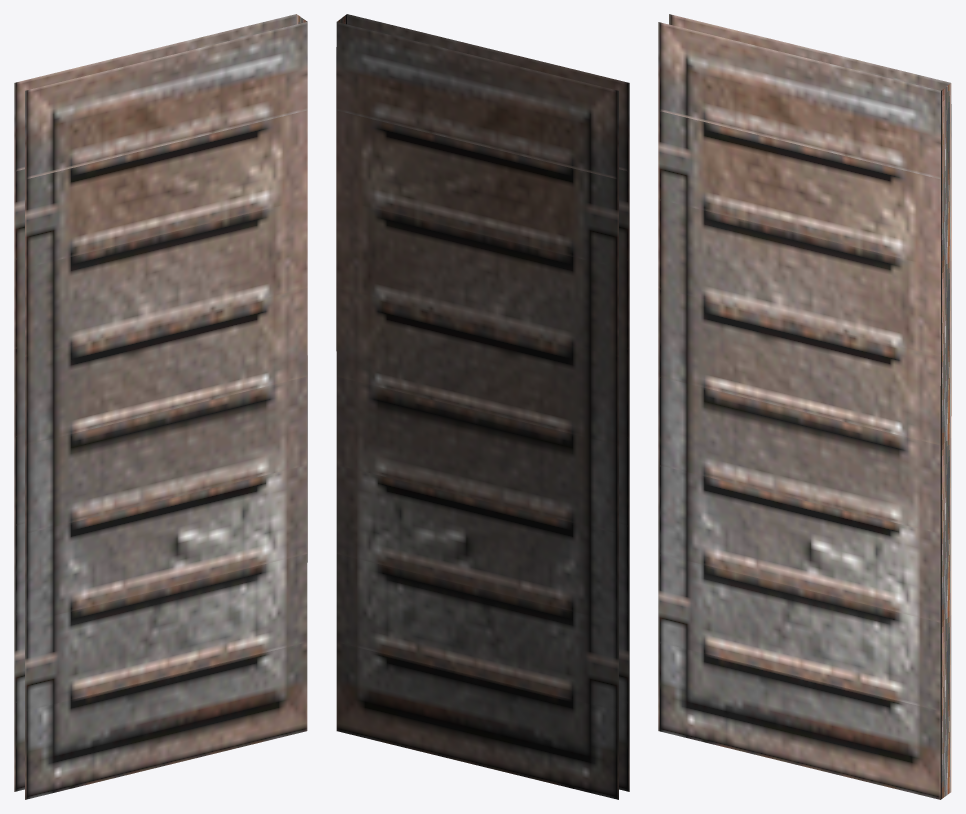
The model's file is Psteel_door2bZ.obj.
3 views of the same model, side by side, from view 1: azimuth 30°, elevation 25°; view 2: azimuth 150°, elevation 25°; view 3: azimuth 330°, elevation 25° (orthographic).
Bounding box in the file's own units: 876 × 2100 × 58.
9 materials, 9 textured.
